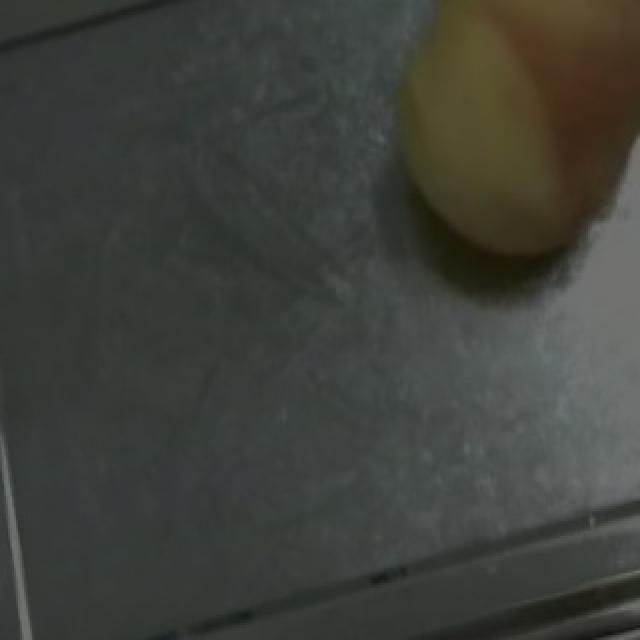Fruit: (350, 0, 640, 300)
